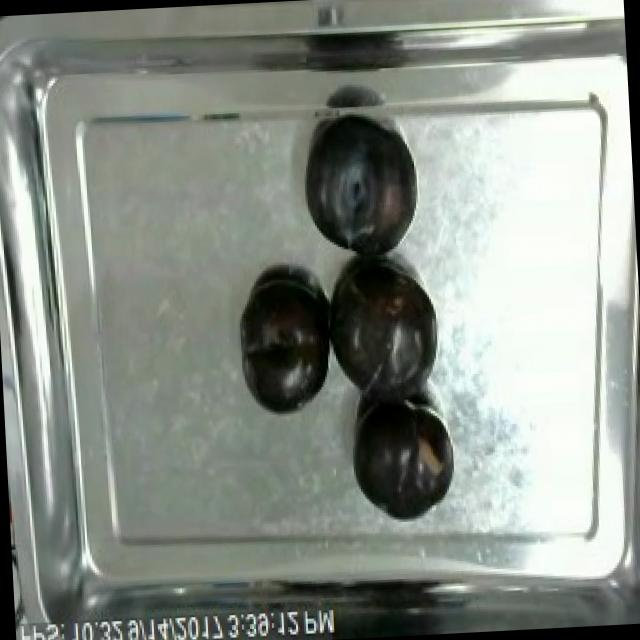Fruit: (298, 110, 420, 262), (325, 254, 440, 398), (235, 270, 338, 424), (346, 392, 459, 530)
